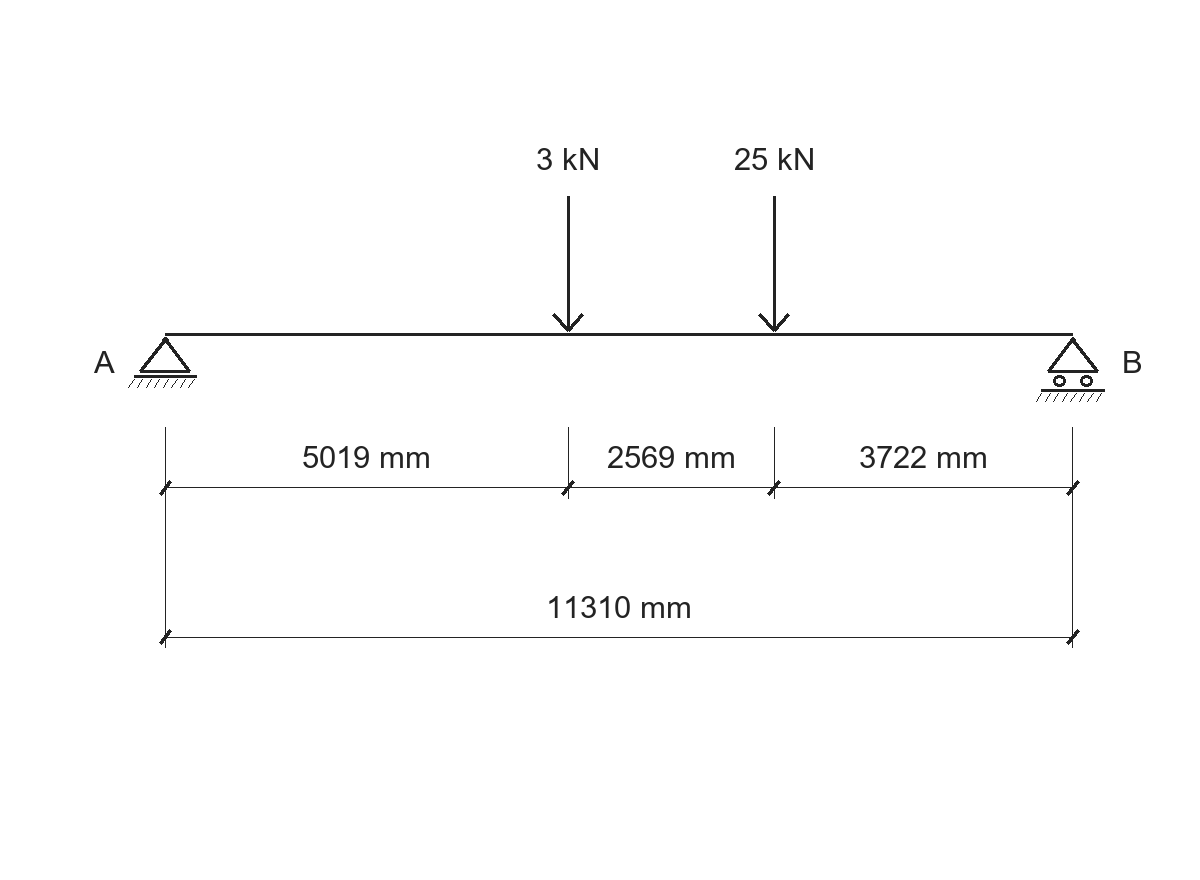pin_support: (128, 337, 197, 388)
point_load: (552, 196, 584, 332), (758, 196, 790, 332)
roller_support: (1036, 337, 1105, 402)
